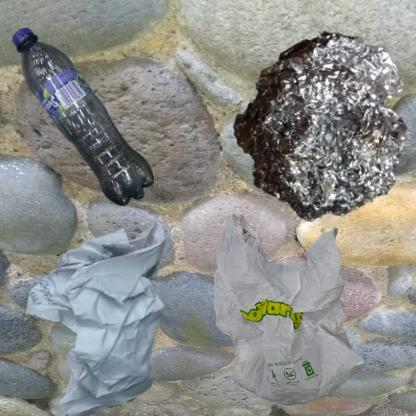aluminio: (213, 10, 416, 252)
bolsa: (213, 213, 365, 406)
botella: (10, 10, 168, 236)
papel: (10, 213, 218, 416)
